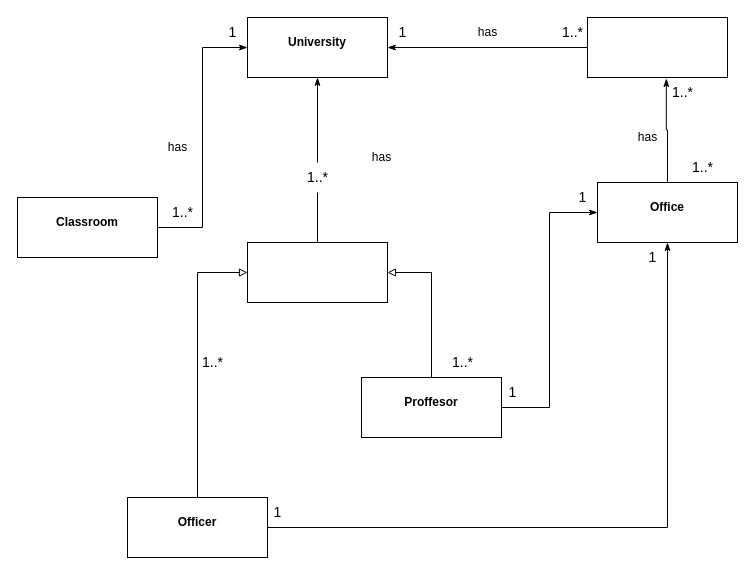
This 755x575 diagram has some shape labels left out. The centre of each missing label's shape, as x and y in pixels:
"Departments" goes at (x=657, y=47).
"Employee" goes at (x=317, y=272).
